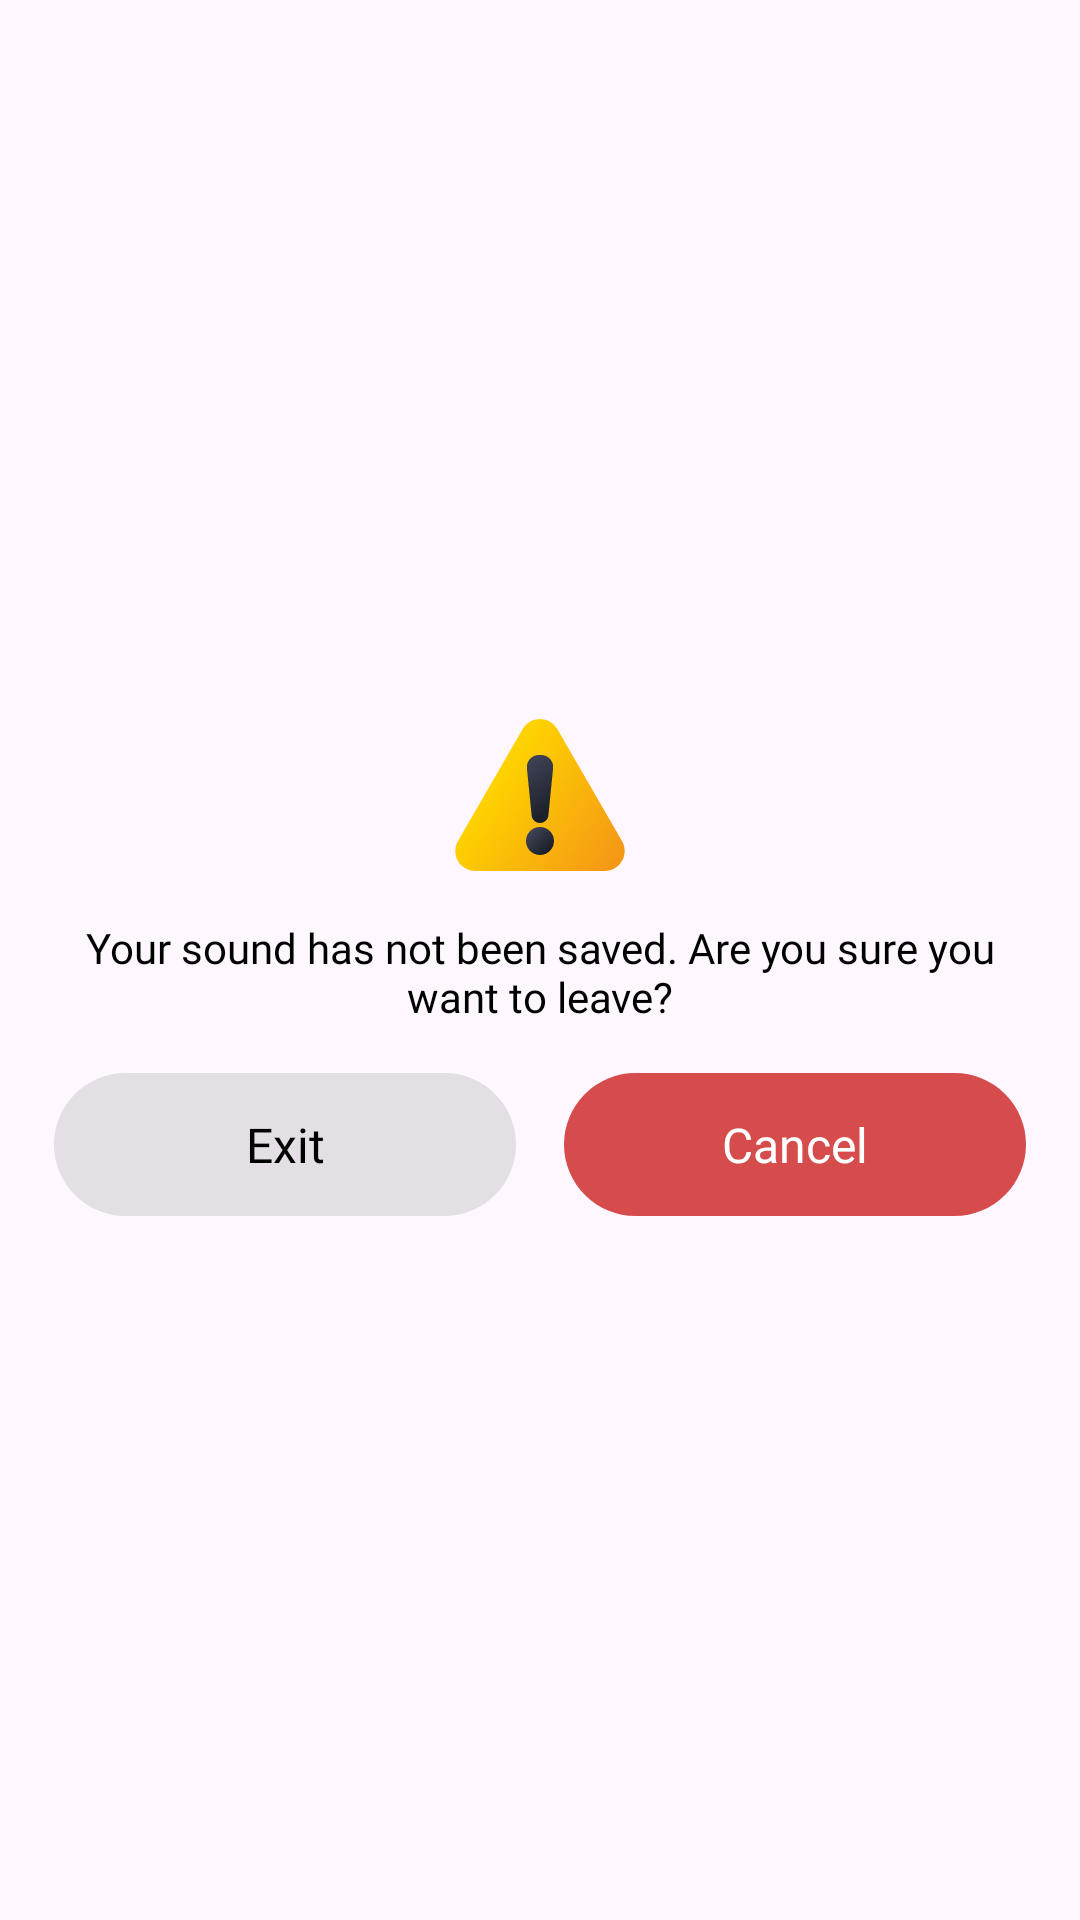

Point at icon controls on the screen. Image size 1080×1920, points as (x,y).
warning: (540,795)
